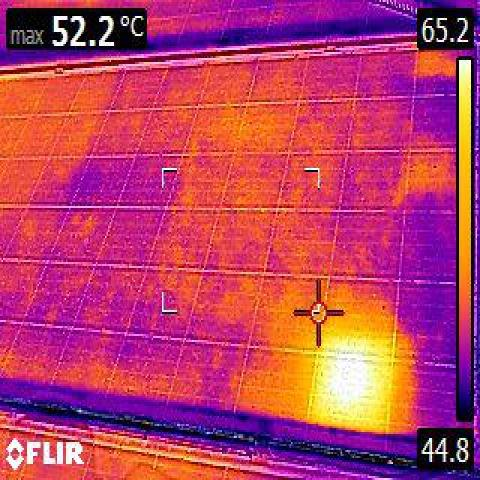fault: (316, 358, 390, 430)
